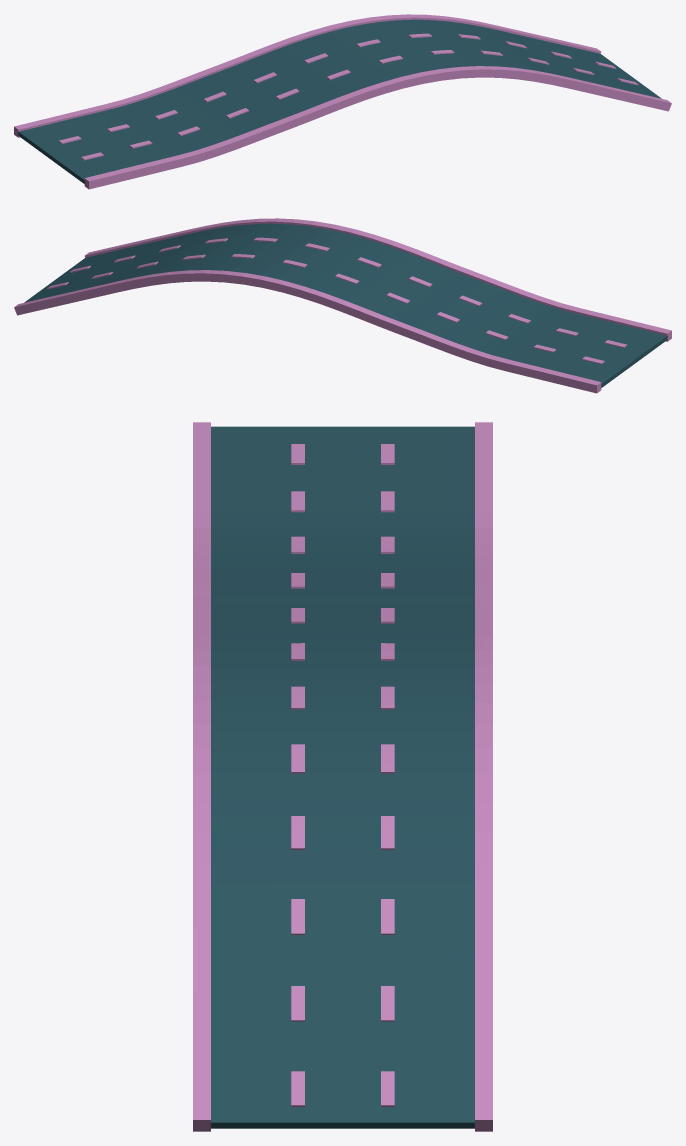
Rendered from weg5.obj.
The picture shows the model from 3 angles, top to bottom: view 1: azimuth 30°, elevation 25°; view 2: azimuth 150°, elevation 25°; view 3: azimuth 270°, elevation 25°; orthographic projection. The views are drawn at different scales.
Visible parts, largest first — view 1: Cube.001; view 2: Cube.001; view 3: Cube.001.
Boxes of the visible parts, box(x1,y1,x2,y2) form: Cube.001: box(14, 14, 671, 189); Cube.001: box(14, 218, 671, 393); Cube.001: box(193, 422, 492, 1131).
Bounding box in the file's own units: 60.12 × 9.42 × 13.4.
32 materials, 32 textured.
